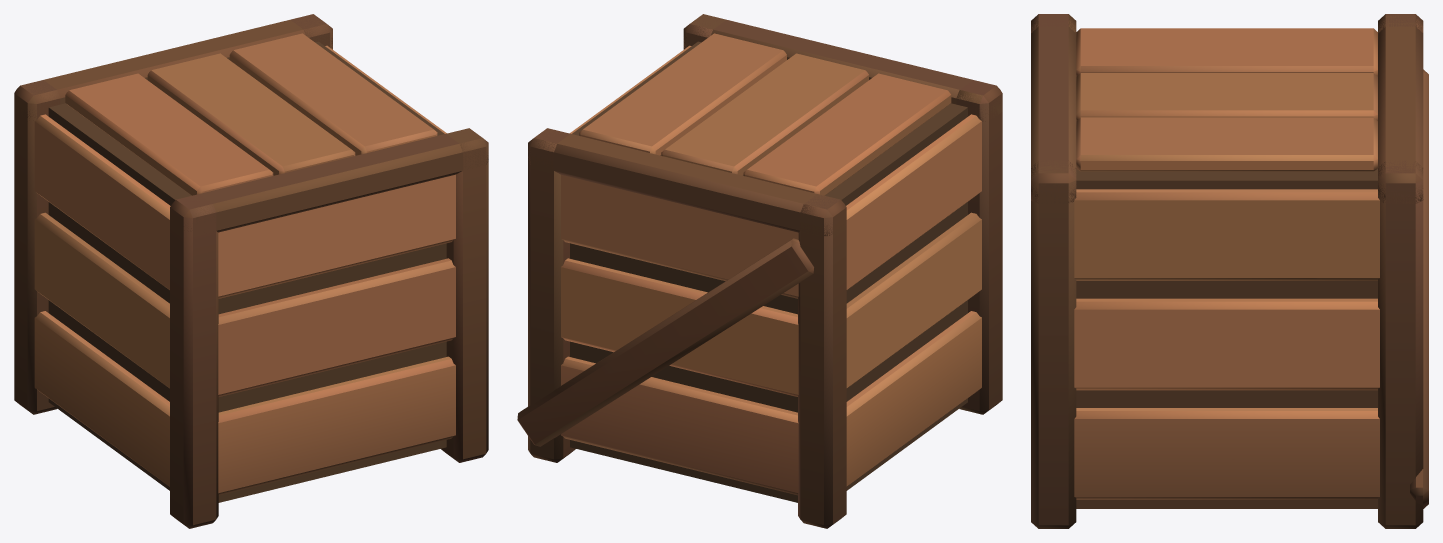
Rendered from crate.glb.
The picture shows the model from 3 angles, left to right: view 1: azimuth 30°, elevation 25°; view 2: azimuth 150°, elevation 25°; view 3: azimuth 270°, elevation 25°; orthographic projection. The views are drawn at different scales.
Visible parts, largest first — view 1: crate; view 2: crate; view 3: crate.
Boxes of the visible parts, left/top/right/bottom form: crate: left=14, top=14, right=488, bottom=528; crate: left=517, top=14, right=1002, bottom=528; crate: left=1031, top=14, right=1428, bottom=528.
Bounding box in the file's own units: 0.5324 × 0.523 × 0.5275.
